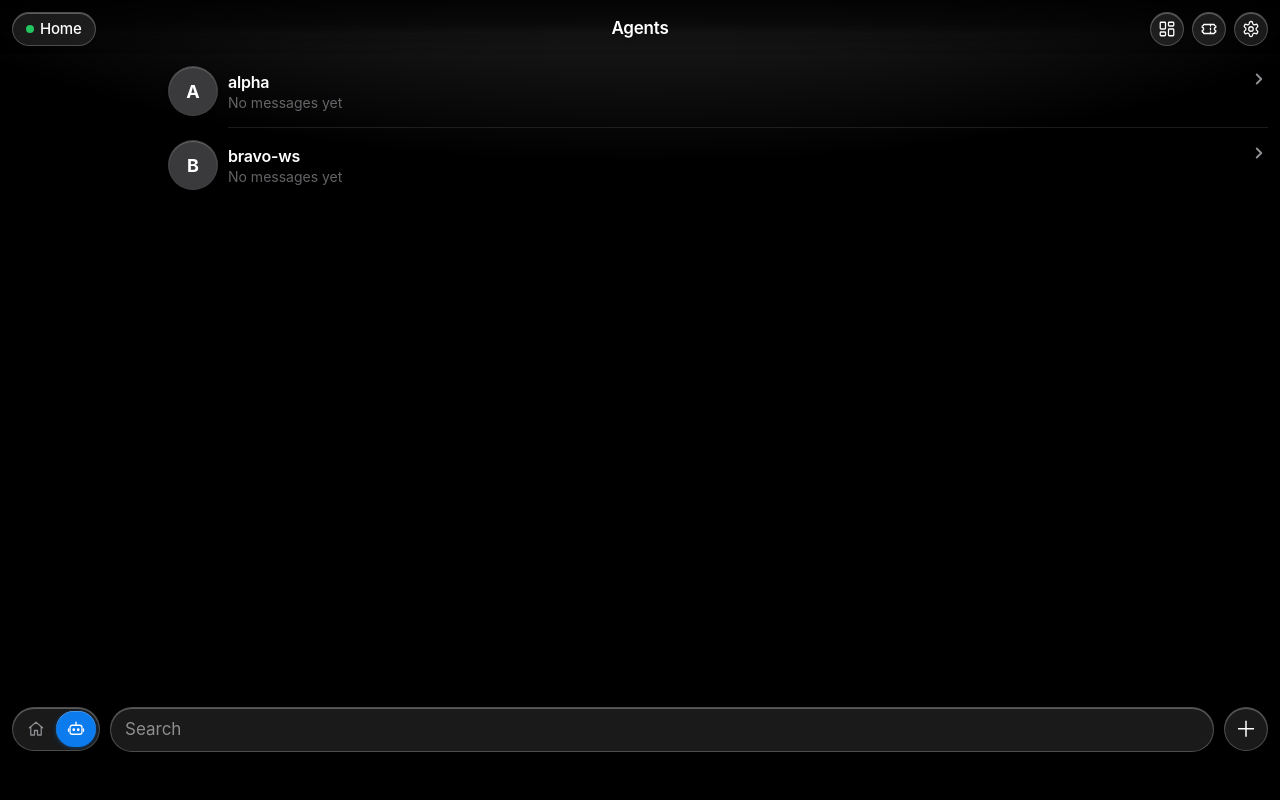
it: flag on: the pill opens the Servers sheet; Agents is the active server › tapping the pill on Agents opens the Servers sheet directly; no menu renders
Click the button with test id "chats-header-server": (54,29) [12,12,96,46]
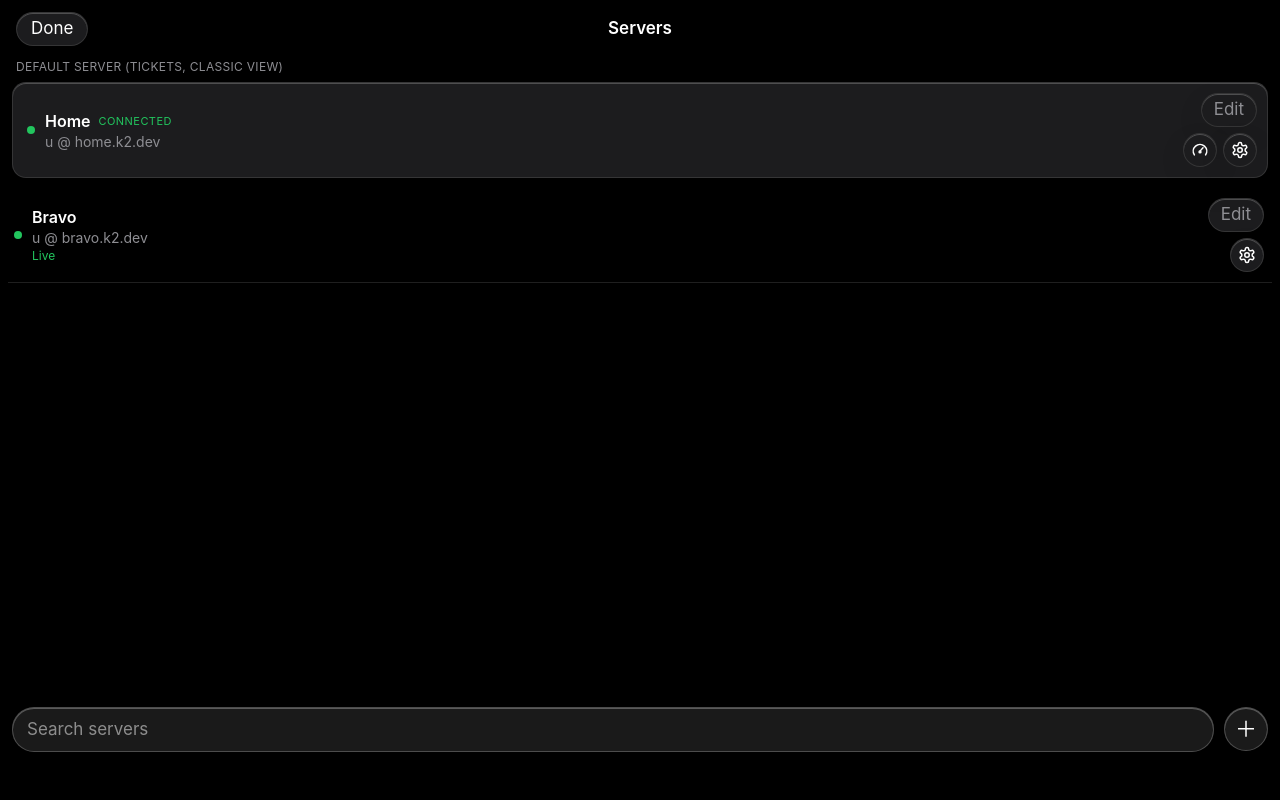
Check: the element with test id "overlay-servers" is shown
Check: the text with test id "servers-pinned-label" reads "Default server (Tickets, classic view)", box [16,59,283,74]
